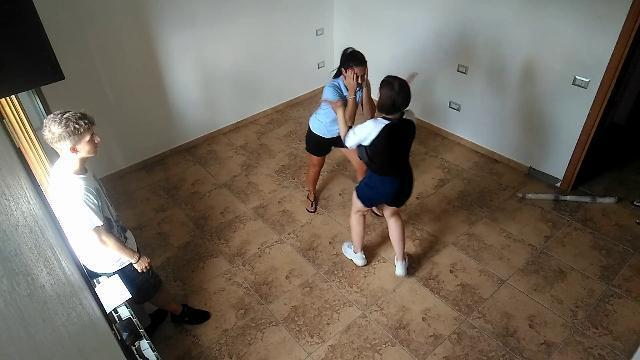non-violence: (39, 108, 213, 340)
violence: (303, 46, 419, 280)
